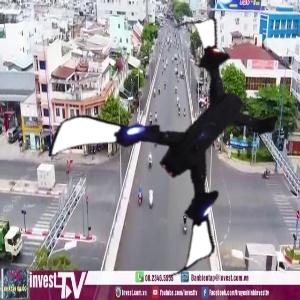drone: (73, 43, 297, 267)
